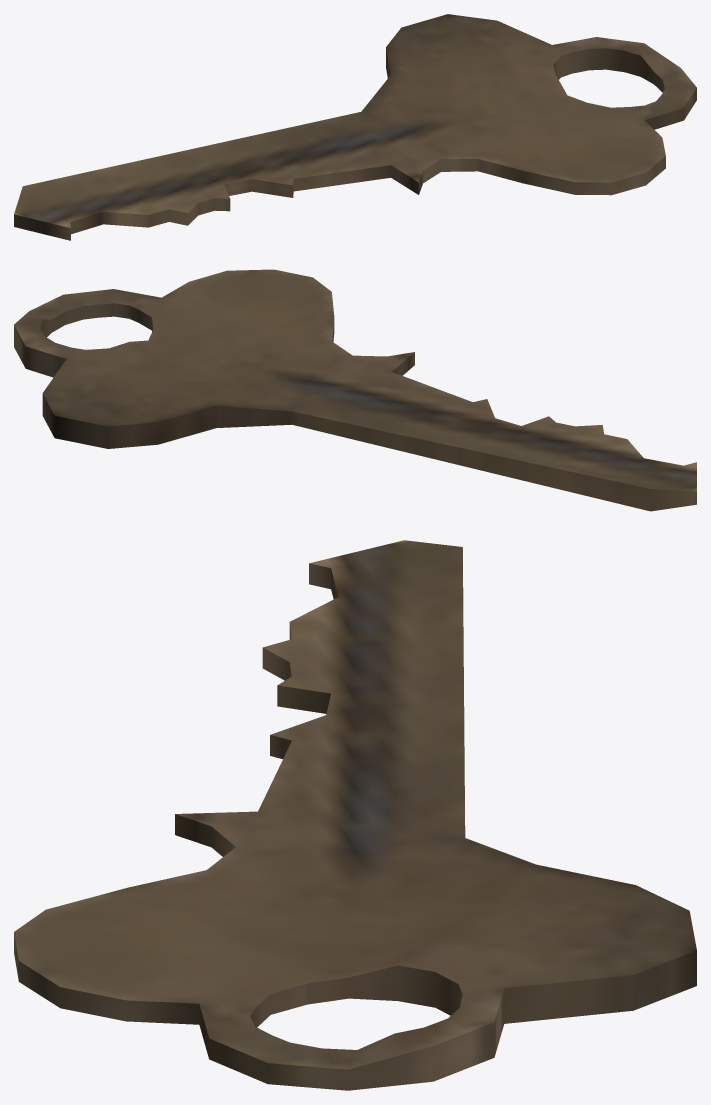
The model's file is key1.fbx.
The picture shows the model from 3 angles, top to bottom: view 1: azimuth 30°, elevation 25°; view 2: azimuth 150°, elevation 25°; view 3: azimuth 270°, elevation 25°; orthographic projection. The views are drawn at different scales.
Parts seen in each view (by area): view 1: Key; view 2: Key; view 3: Key.
Boxes of the visible parts, x1,y1,x2,y2 form: Key: [14, 14, 696, 240]; Key: [14, 269, 696, 511]; Key: [14, 540, 696, 1090].
Size of the model in its own units: 16.26 by 0.5116 by 8.86.
